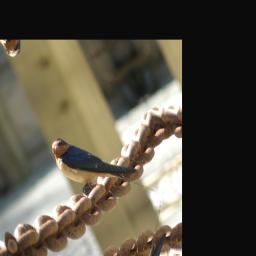Swallow: (47, 97, 159, 240)
